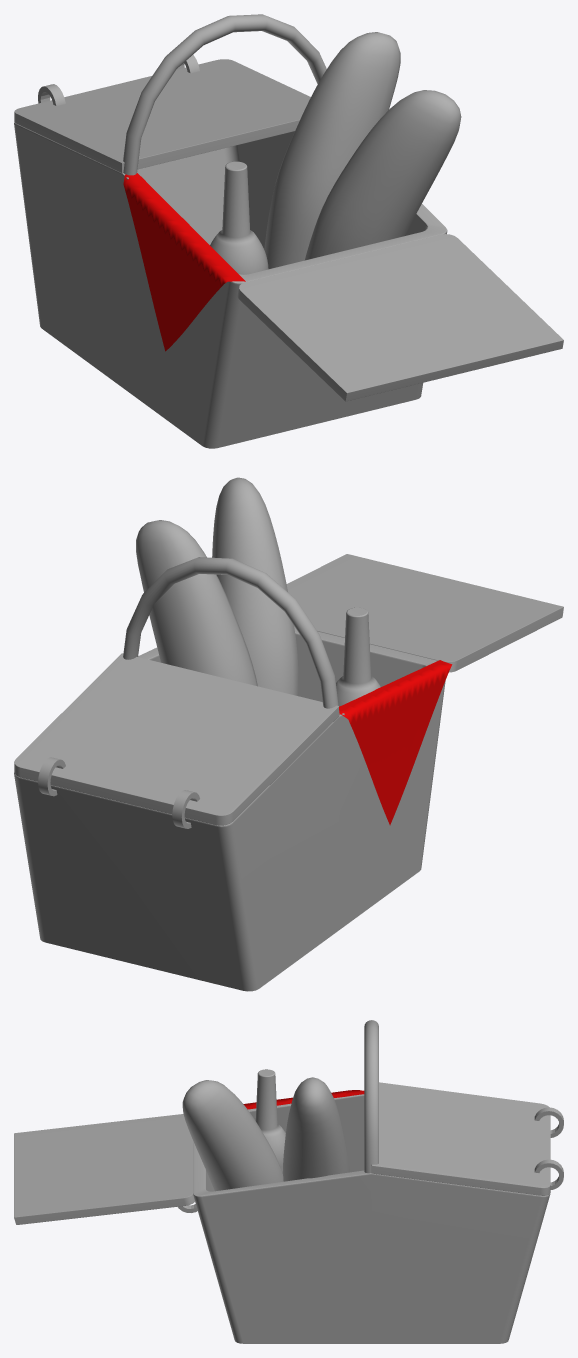
File: sm_Picnic_Basket.fbx
3 views of the same model, one above another, from view 1: azimuth 30°, elevation 25°; view 2: azimuth 150°, elevation 25°; view 3: azimuth 270°, elevation 25° (orthographic). The views are drawn at different scales.
Parts seen in each view (by area): view 1: sm_Picnic_Basket; view 2: sm_Picnic_Basket; view 3: sm_Picnic_Basket.
Boxes of the visible parts, x1,y1,x2,y2 form: sm_Picnic_Basket: [14, 14, 563, 448]; sm_Picnic_Basket: [14, 477, 563, 991]; sm_Picnic_Basket: [14, 1020, 563, 1343].
Size of the model in its own units: 0.5484 by 0.7443 by 1.35.
